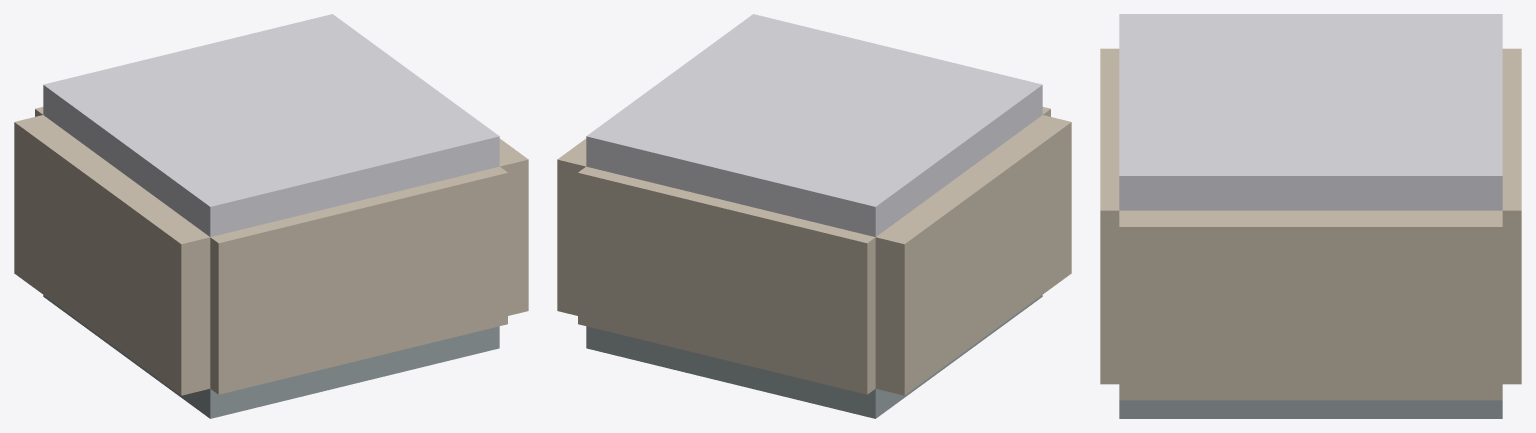
File: Lypzo.obj
The picture shows the model from 3 angles, left to right: view 1: azimuth 30°, elevation 25°; view 2: azimuth 150°, elevation 25°; view 3: azimuth 270°, elevation 25°; orthographic projection. The views are drawn at different scales.
Parts seen in each view (by area): view 1: Cube.005_Cube.001, Cube.004_Cube.011, Cube.002_Cube.006, Cube, Cube.001_Cube.003; view 2: Cube.005_Cube.001, Cube.003_Cube.010, Cube.002_Cube.006, Cube, Cube.001_Cube.003; view 3: Cube.005_Cube.001, Cube.001_Cube.003, Cube, Cube.004_Cube.011, Cube.003_Cube.010.
Boxes of the visible parts, x1=… form: Cube.005_Cube.001: x1=43, y1=14, x2=499, y2=236; Cube.004_Cube.011: x1=210, y1=166, x2=507, y2=394; Cube.002_Cube.006: x1=14, y1=115, x2=210, y2=395; Cube: x1=43, y1=295, x2=499, y2=418; Cube.001_Cube.003: x1=499, y1=138, x2=528, y2=315; Cube.005_Cube.001: x1=586, y1=14, x2=1042, y2=236; Cube.003_Cube.010: x1=578, y1=166, x2=875, y2=394; Cube.002_Cube.006: x1=875, y1=115, x2=1071, y2=395; Cube: x1=586, y1=295, x2=1042, y2=418; Cube.001_Cube.003: x1=557, y1=138, x2=586, y2=315; Cube.005_Cube.001: x1=1119, y1=14, x2=1502, y2=210; Cube.001_Cube.003: x1=1119, y1=210, x2=1502, y2=400; Cube: x1=1119, y1=400, x2=1502, y2=418; Cube.004_Cube.011: x1=1100, y1=48, x2=1119, y2=384; Cube.003_Cube.010: x1=1502, y1=48, x2=1521, y2=384.
Bounding box in the file's own units: 24 × 14 × 22.
6 materials, 6 textured.
